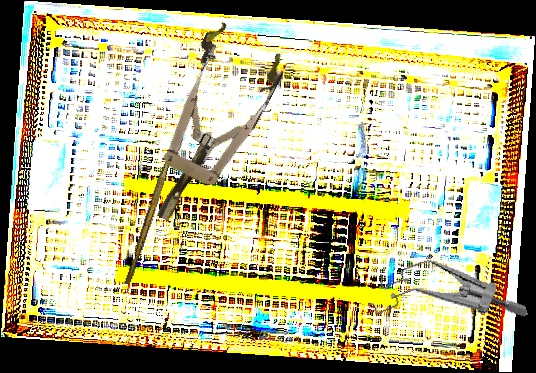Scalpel Handle: (124, 157, 171, 286)
Speculum: (122, 17, 292, 238), (359, 231, 529, 365)
